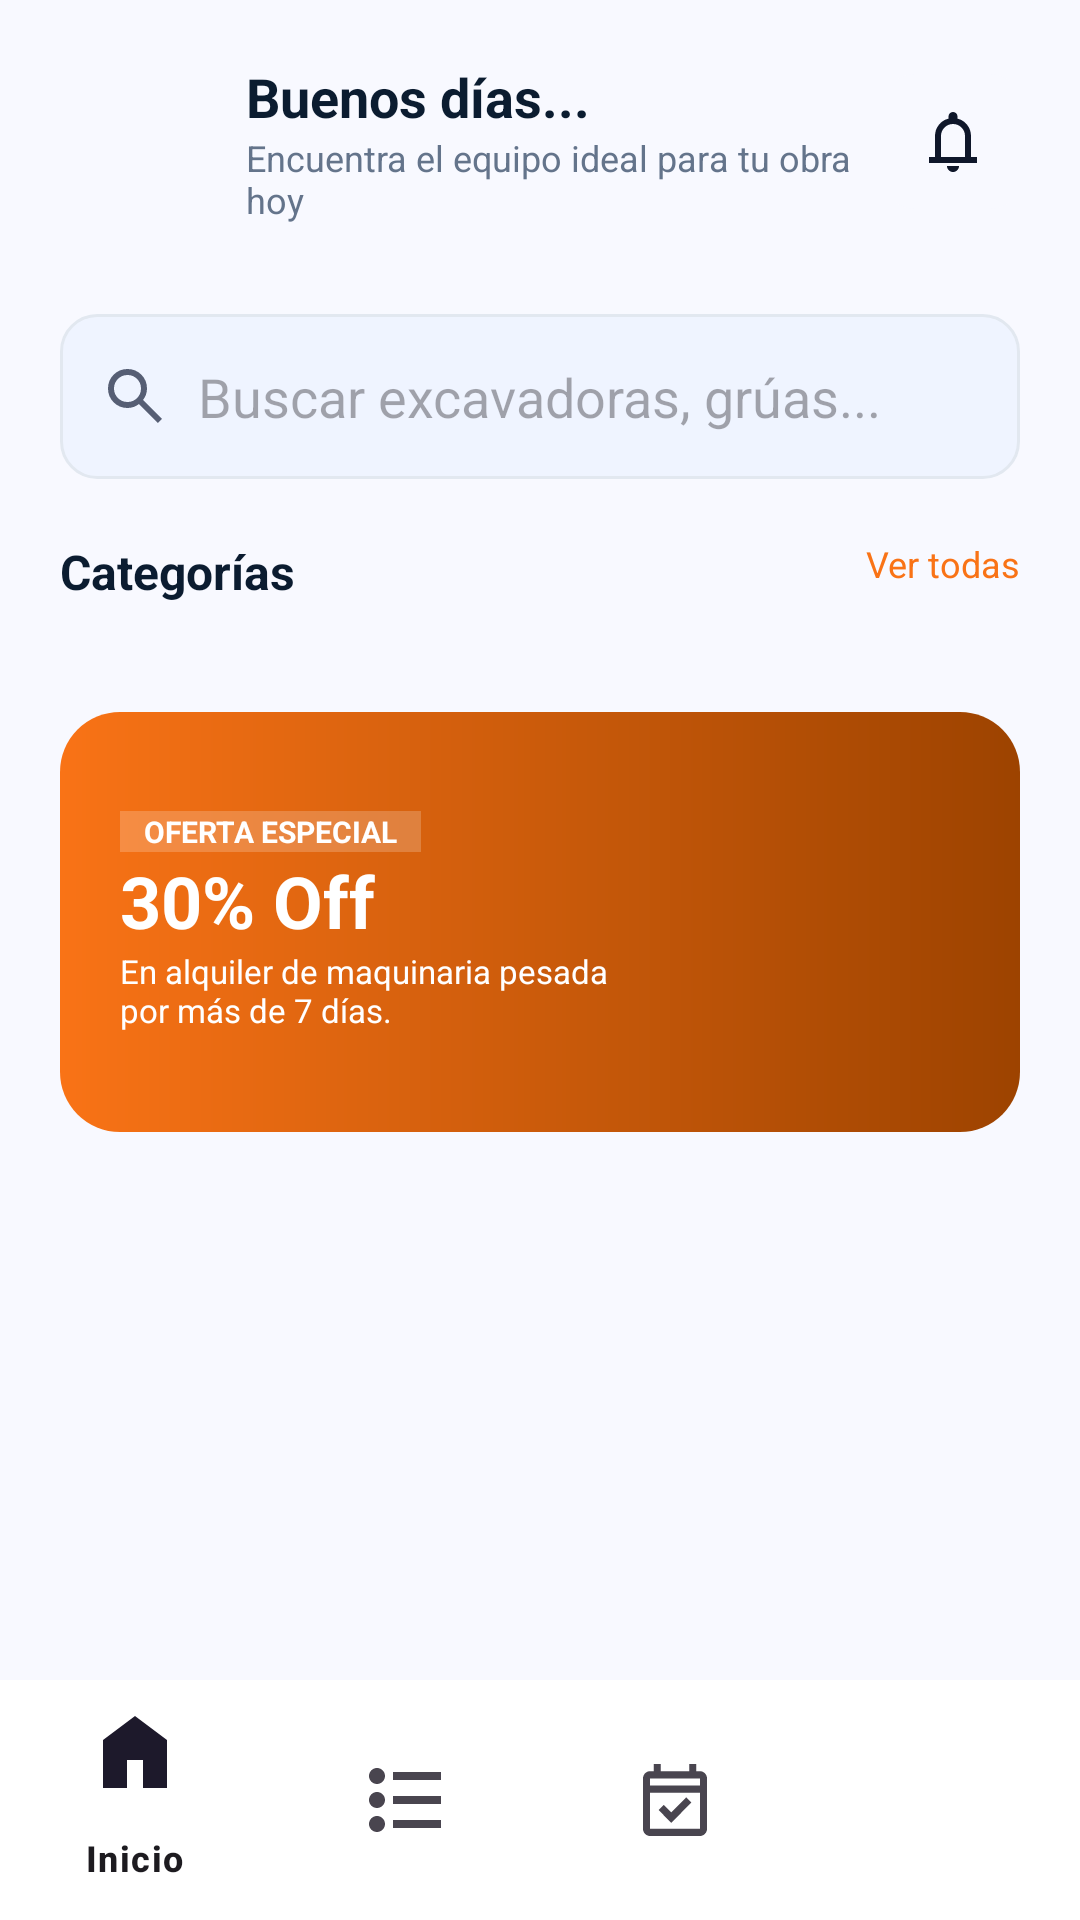

Icons on this 1080×1920 Android screen, each with its box as region(x1, y1, x2, y2):
notificacion: region(929, 112, 977, 172)
